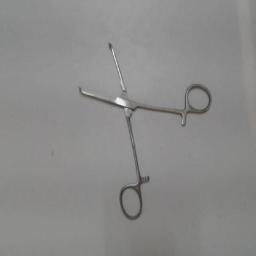Allis Tissue Forceps: (70, 38, 214, 224)
